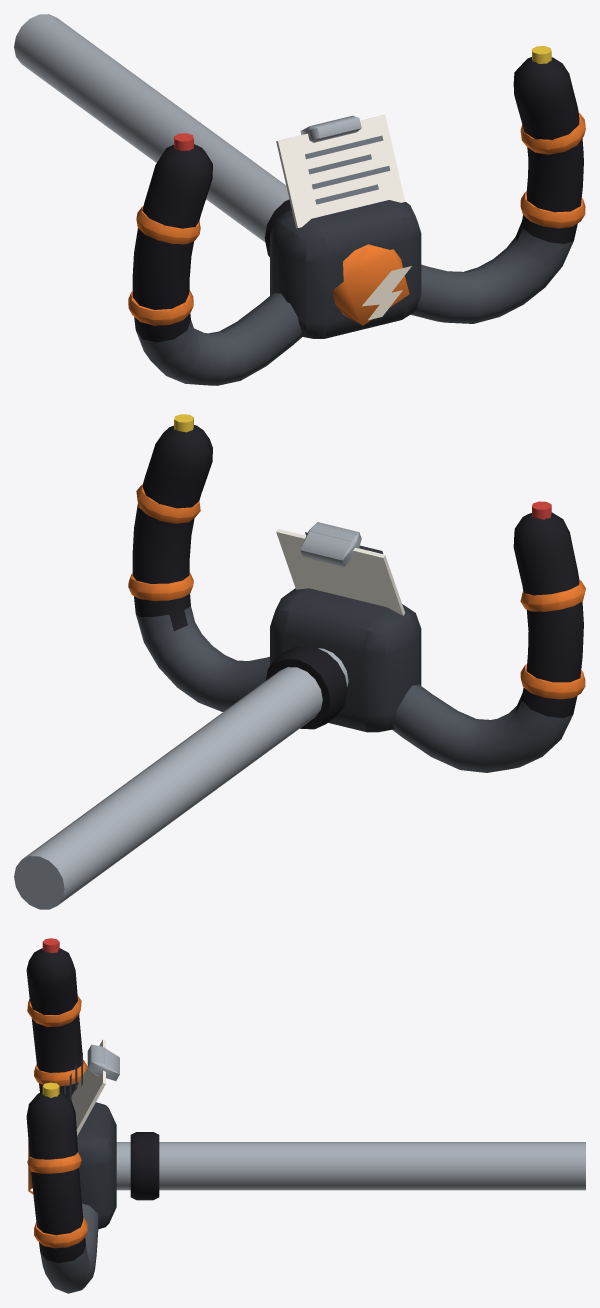
Rendered from CabinaVolante.fbx.
The picture shows the model from 3 angles, top to bottom: view 1: azimuth 30°, elevation 25°; view 2: azimuth 150°, elevation 25°; view 3: azimuth 270°, elevation 25°; orthographic projection. The views are drawn at different scales.
Parts seen in each view (by area): view 1: CabinaVolante; view 2: CabinaVolante; view 3: CabinaVolante.
Part boxes in pixels (left/top/right/bottom): CabinaVolante: left=14, top=14, right=585, bottom=385; CabinaVolante: left=14, top=414, right=585, bottom=909; CabinaVolante: left=26, top=938, right=585, bottom=1293.
Size of the model in its own units: 1.5 by 0.8581 by 2.01.
Materials: 1 (1 with a texture image).
